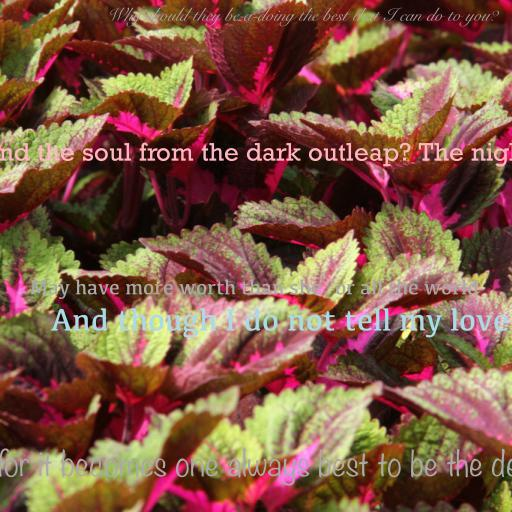Kefa: (51, 308, 509, 338), (29, 279, 479, 299)
Noteworthy: (0, 448, 512, 486)
Rockwell: (0, 142, 512, 167)
Snell Roundhand: (106, 7, 498, 27)
